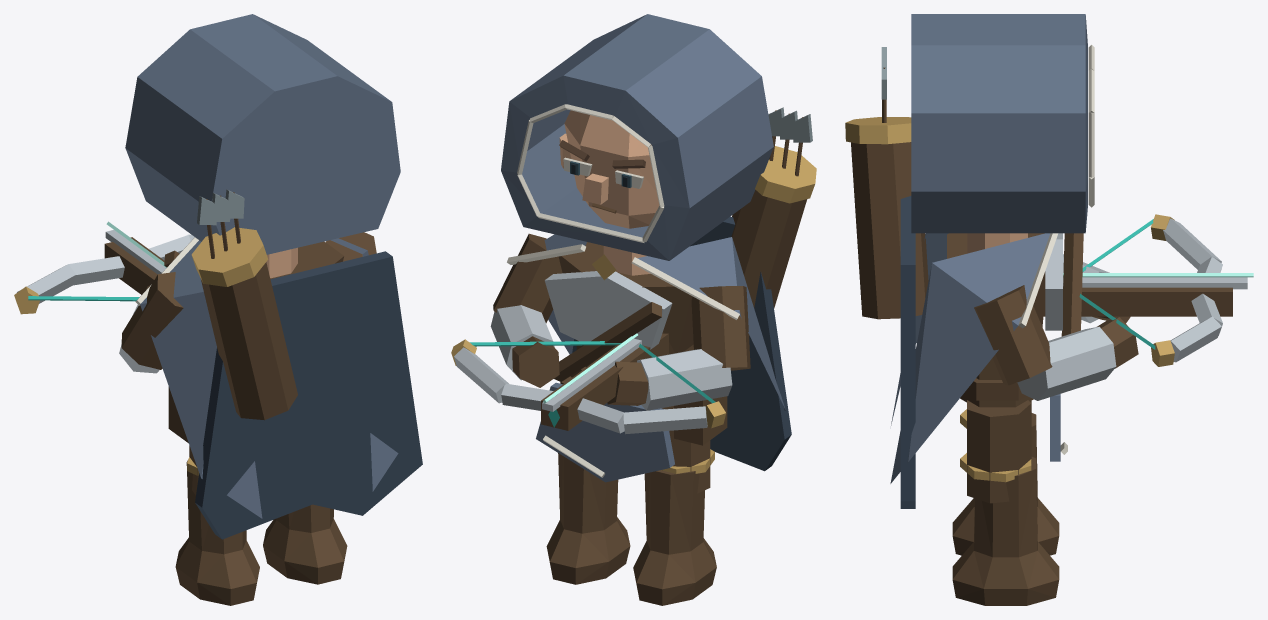
File: Crossbow.fbx
3 renders of one model, left to right at view 1: azimuth 30°, elevation 25°; view 2: azimuth 150°, elevation 25°; view 3: azimuth 270°, elevation 25°, orthographic. The views are drawn at different scales.
Visible parts, largest first — view 1: Body, Head, ArmR, LegR, LegL, ArmL; view 2: Head, Body, ArmR, LegR, LegL, ArmL; view 3: Head, Body, LegL, ArmR, ArmL, LegR.
Boxes of the visible parts, x1=… form: Body: x1=135, y1=189, x2=422, y2=539; Head: x1=125, y1=14, x2=400, y2=254; ArmR: x1=14, y1=221, x2=194, y2=373; LegR: x1=175, y1=445, x2=259, y2=605; LegL: x1=263, y1=504, x2=347, y2=584; ArmL: x1=326, y1=232, x2=376, y2=261; Head: x1=501, y1=14, x2=773, y2=260; Body: x1=507, y1=107, x2=816, y2=482; ArmR: x1=451, y1=286, x2=750, y2=434; LegR: x1=633, y1=430, x2=716, y2=605; LegL: x1=546, y1=376, x2=630, y2=584; ArmL: x1=490, y1=233, x2=562, y2=387; Head: x1=911, y1=14, x2=1094, y2=233; Body: x1=845, y1=47, x2=1083, y2=508; LegL: x1=952, y1=400, x2=1059, y2=605; ArmR: x1=1043, y1=214, x2=1253, y2=366; ArmL: x1=974, y1=285, x2=1138, y2=400; LegR: x1=952, y1=401, x2=1059, y2=555.
Size of the model in its own units: 0.5951 by 1 by 0.6857.
Materials: 1 (1 with a texture image).
